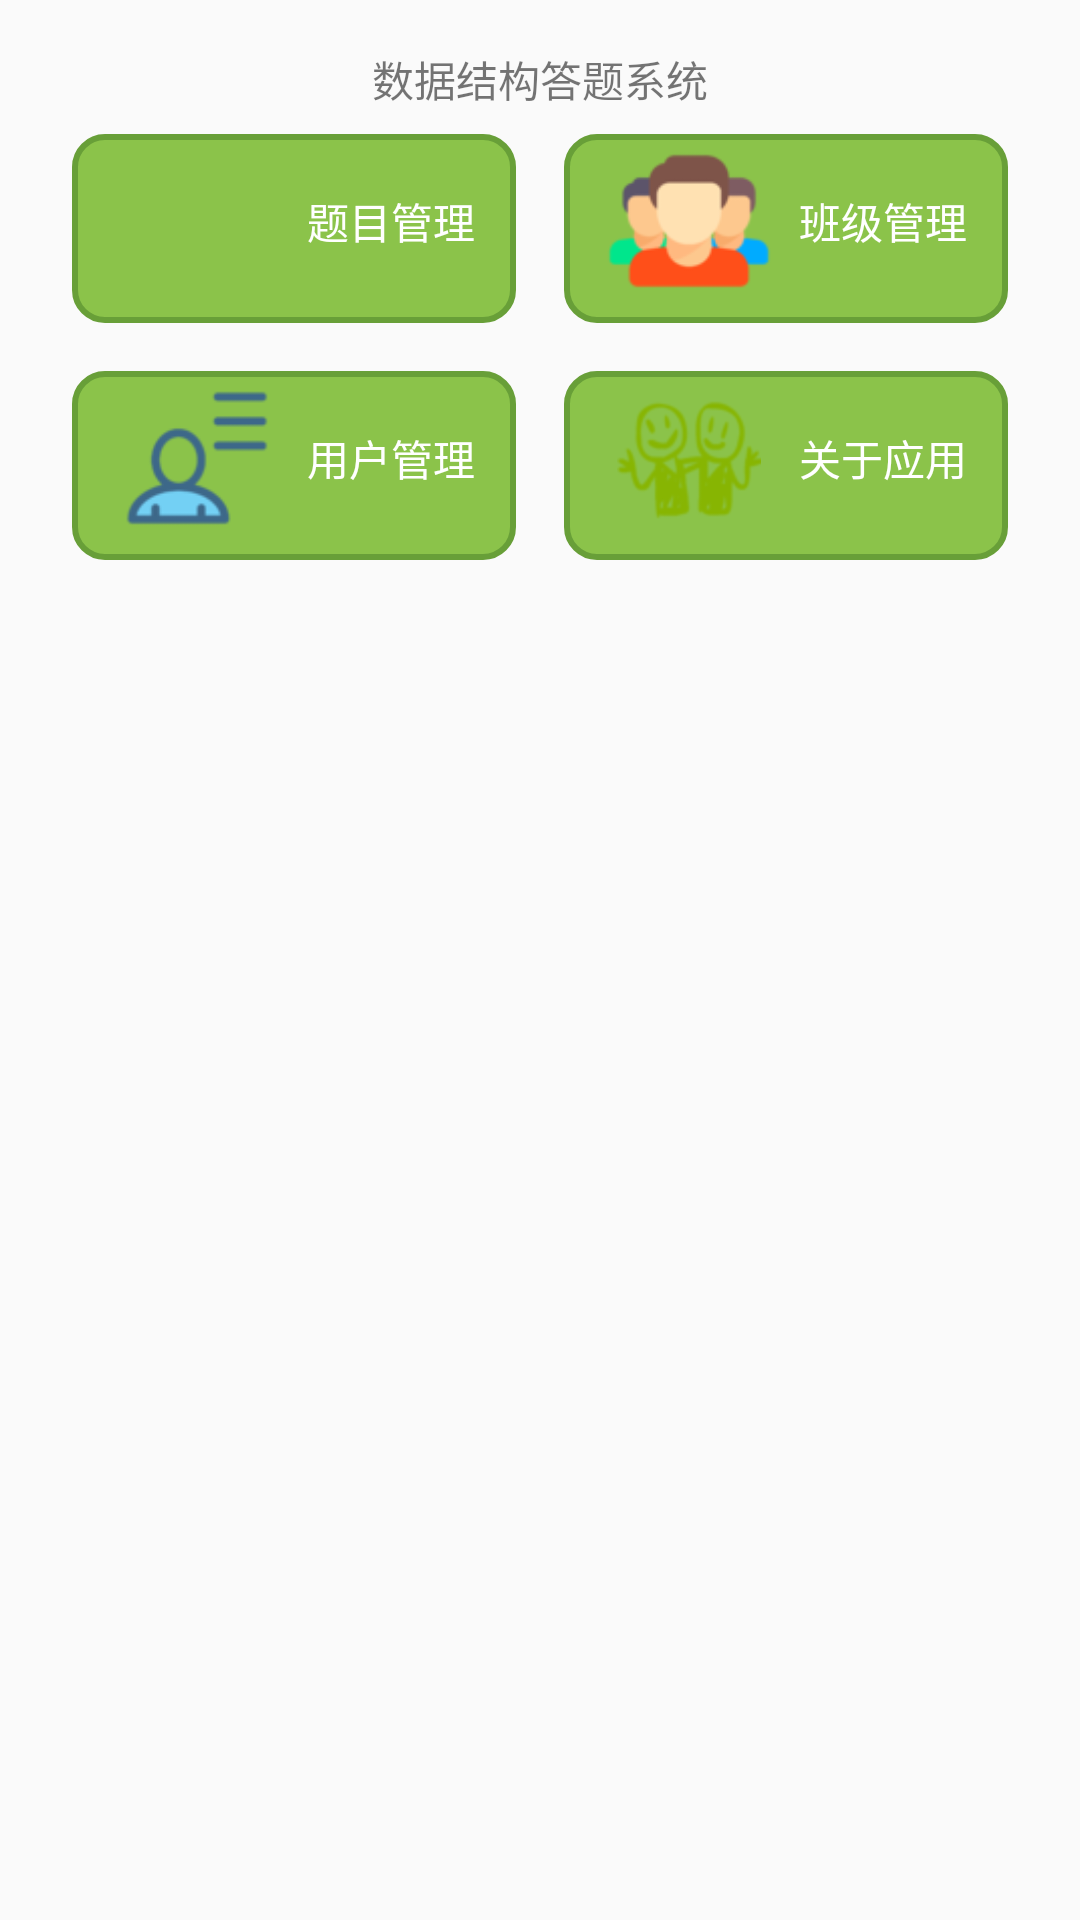

Icons on this 1080*1920 Android screen, each with the point to tap as point (x, y):
banjiguanli: point (689, 221)
yonghuguanli: point (197, 458)
